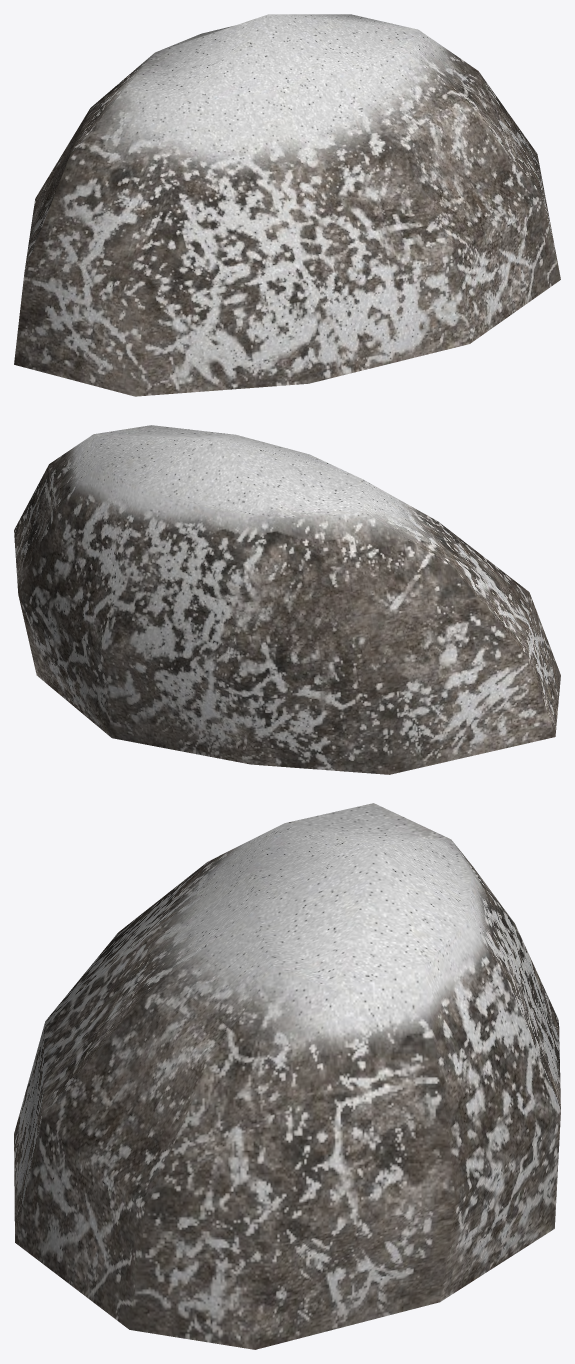
File: Stone-2.obj
The picture shows the model from 3 angles, top to bottom: view 1: azimuth 30°, elevation 25°; view 2: azimuth 150°, elevation 25°; view 3: azimuth 270°, elevation 25°; orthographic projection. The views are drawn at different scales.
Visible parts, largest first — view 1: Stone_2; view 2: Stone_2; view 3: Stone_2.
Boxes of the visible parts, left/top/right/bottom form: Stone_2: left=14, top=14, right=560, bottom=396; Stone_2: left=14, top=425, right=560, bottom=774; Stone_2: left=14, top=803, right=560, bottom=1349.
Size of the model in its own units: 1.38 by 0.6418 by 0.8963.
